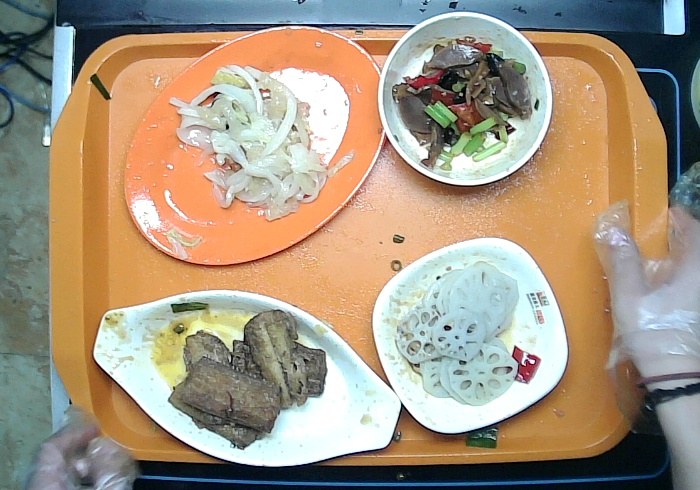NLDX-Bai_Se_Xiao_Fang_Die: (372, 238, 569, 433)
NLDX-Fan_Wan: (378, 11, 553, 187)
NLDX-Ju_Se_Pan: (125, 26, 386, 266)
NLDX-Yu_Pan: (93, 288, 402, 467)
